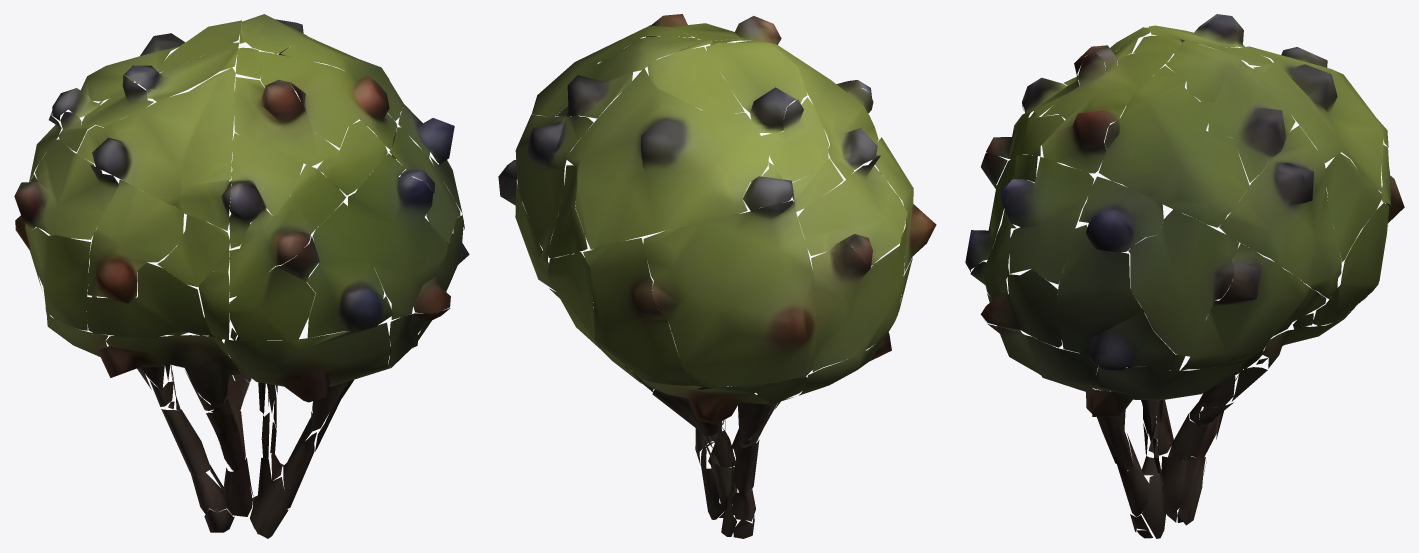
File: BerryFarm_lod.glb
The picture shows the model from 3 angles, left to right: view 1: azimuth 30°, elevation 25°; view 2: azimuth 150°, elevation 25°; view 3: azimuth 270°, elevation 25°; orthographic projection. The views are drawn at different scales.
Visible parts, largest first — view 1: tripo_node_92465ef5-1dfb-4076-aaf2-f129813ba000; view 2: tripo_node_92465ef5-1dfb-4076-aaf2-f129813ba000; view 3: tripo_node_92465ef5-1dfb-4076-aaf2-f129813ba000.
Boxes of the visible parts, x1,y1,x2,y2 form: tripo_node_92465ef5-1dfb-4076-aaf2-f129813ba000: (14, 14, 469, 538); tripo_node_92465ef5-1dfb-4076-aaf2-f129813ba000: (498, 14, 936, 538); tripo_node_92465ef5-1dfb-4076-aaf2-f129813ba000: (965, 14, 1404, 538).
Bounding box in the file's own units: 0.8107 × 0.9883 × 0.7975.
Materials: 1 (1 with a texture image).
